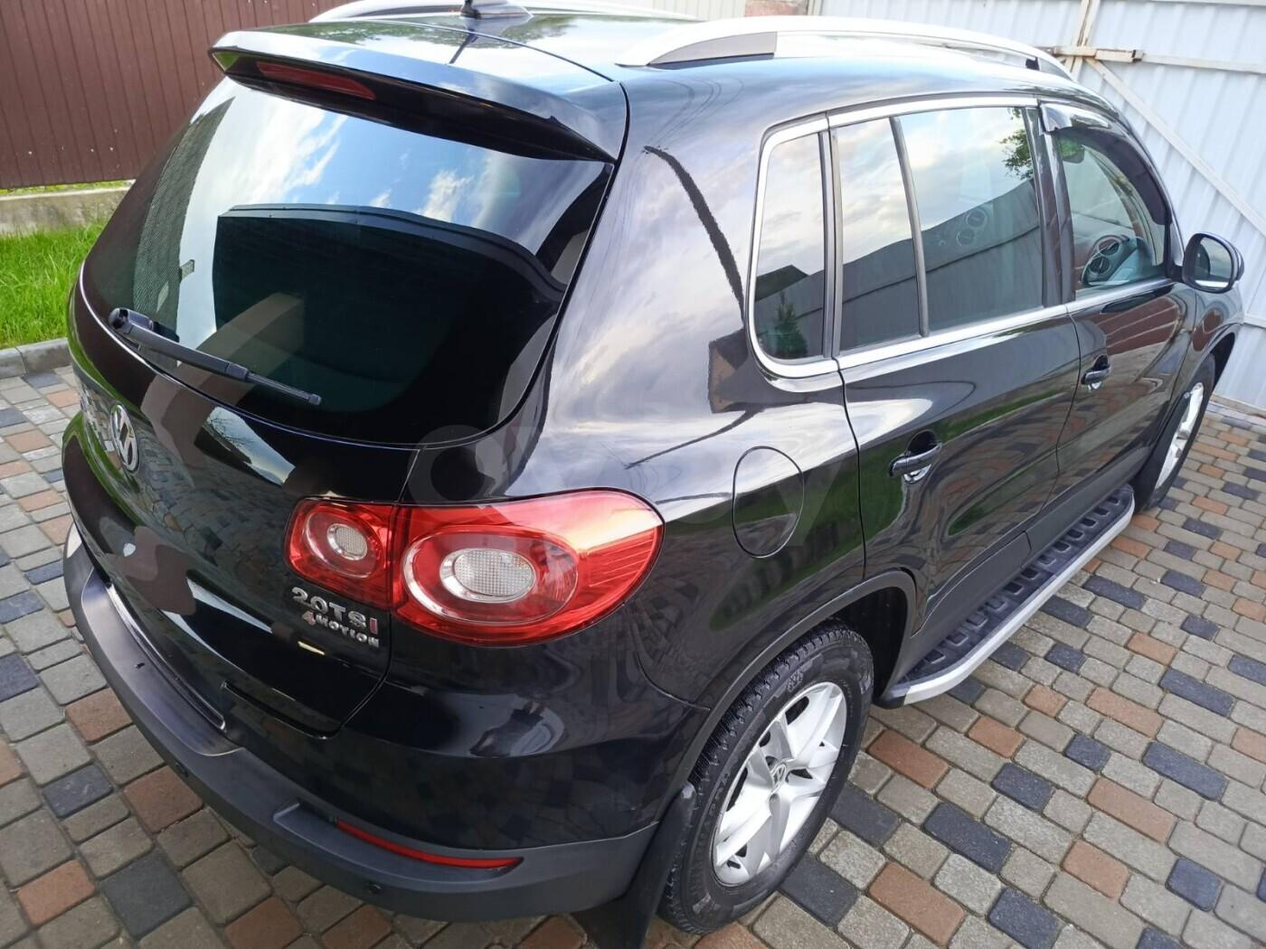Tiguan_2007-2011: (50, 3, 1252, 926)
